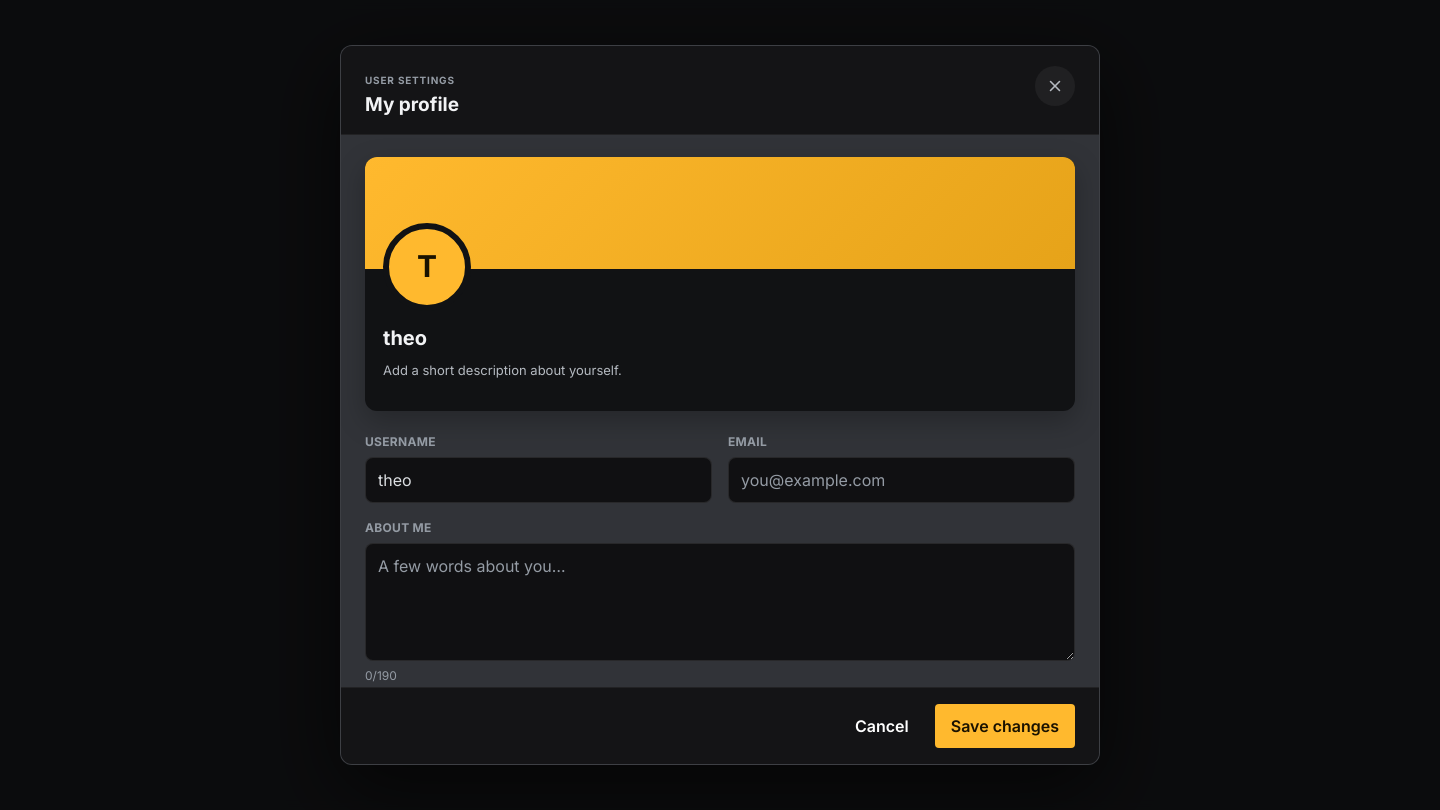
ProfileModal › shows API validation errors
Click the button "Save changes" at [1005, 726], box [935,704,1075,748]
(page scrolled)
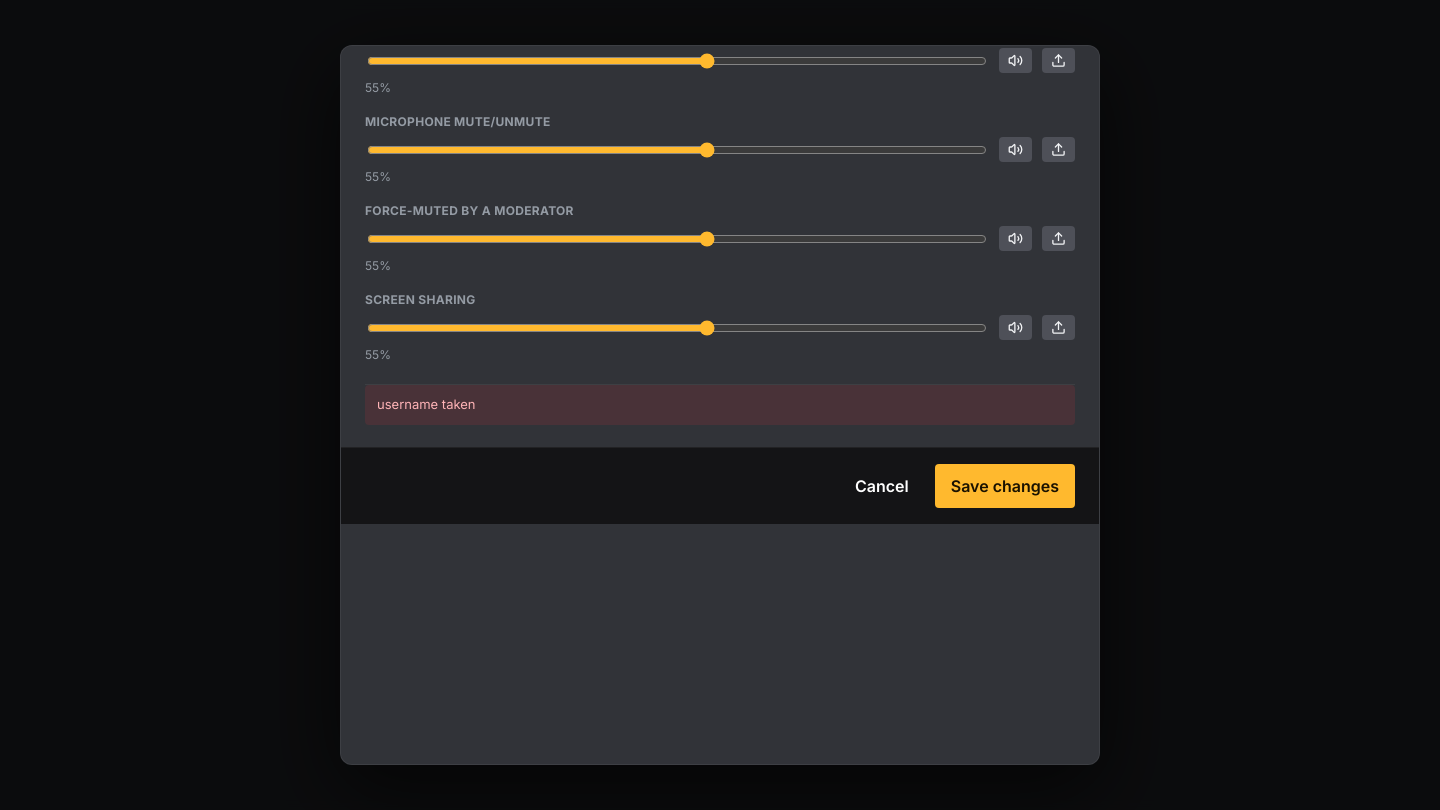
Result: the message reads "username taken" at [377,396,476,412]
